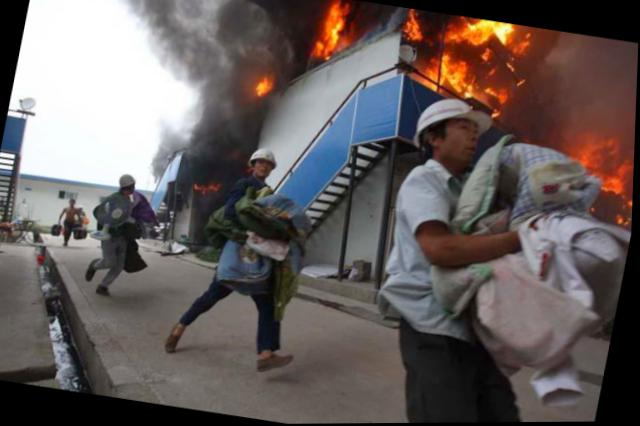fire: (447, 15, 512, 50), (313, 0, 346, 60), (434, 55, 479, 97), (587, 163, 631, 193), (575, 133, 604, 163), (398, 8, 424, 40), (510, 33, 533, 60), (482, 84, 509, 105), (254, 73, 273, 98), (420, 58, 439, 78), (477, 45, 491, 60), (419, 77, 437, 88), (487, 107, 501, 120)
